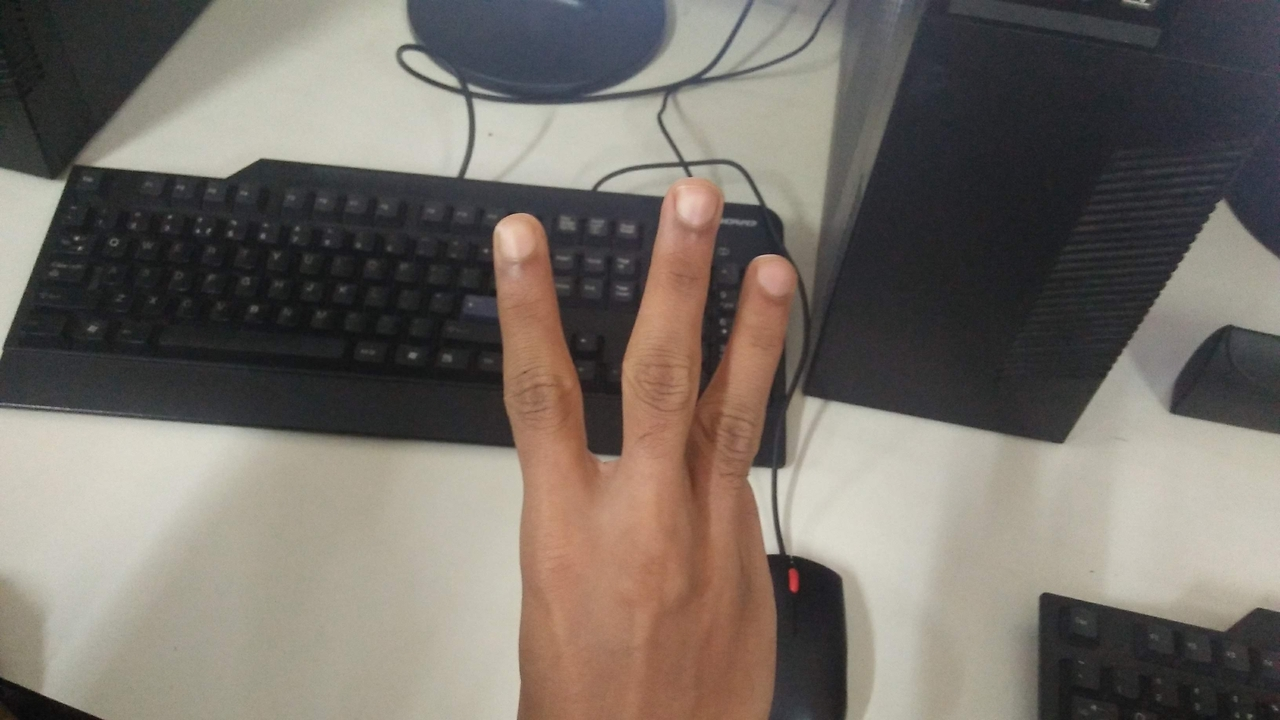fingertip: (656, 172, 728, 240), (484, 208, 556, 272), (734, 248, 800, 314)
